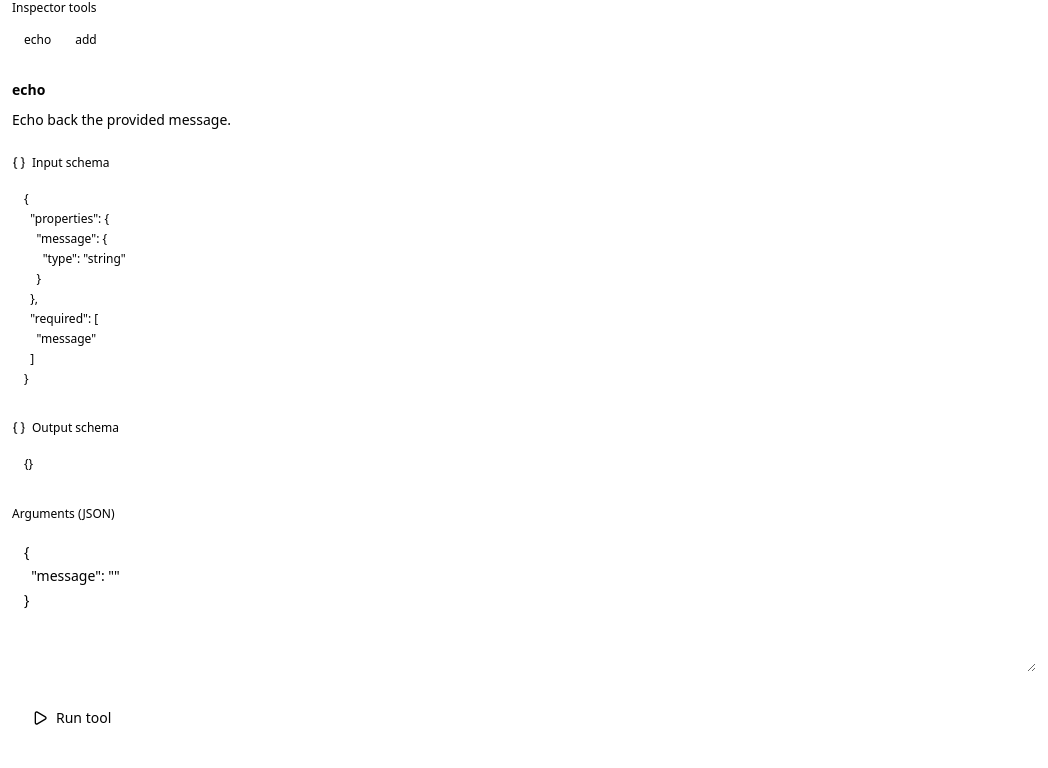
ToolPlayground › shows a clean direct-runtime error for deploymentNotRunning without a sandbox instruction
This screenshot has width=1048, height=768.
Step 1. Click the button "Run tool" → x=72, y=718, box [12,698,131,738]
(page scrolled)
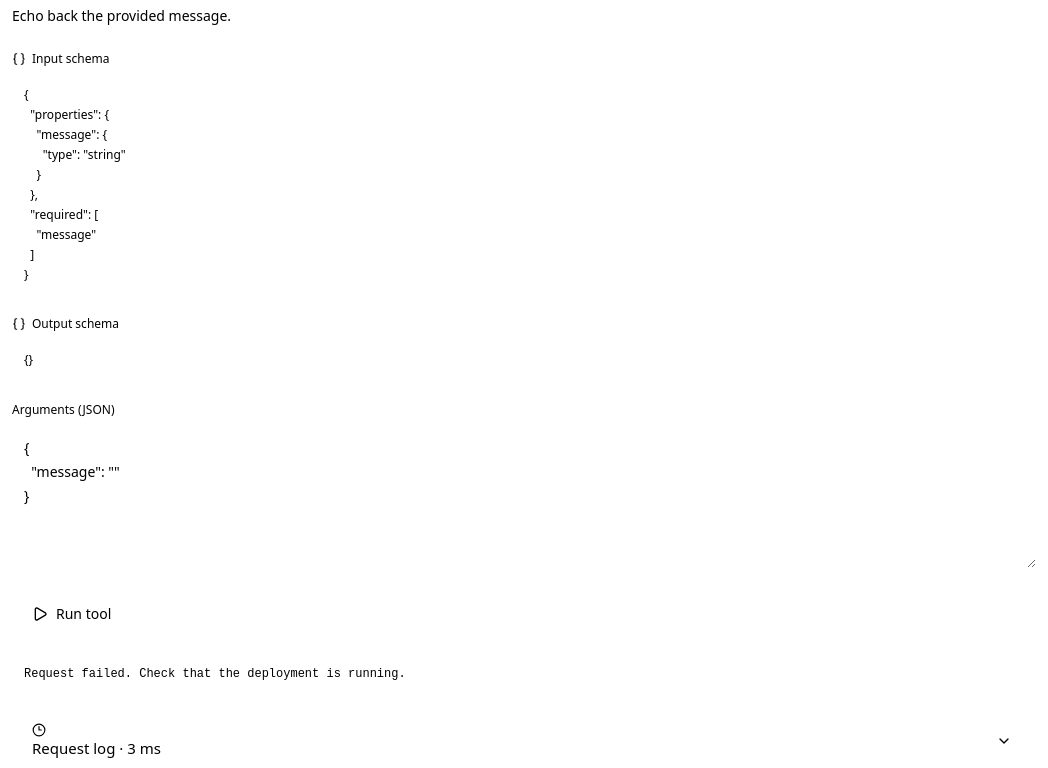
Now the text "Request failed. Check that the deployment is running." is shown, box [24,667,406,681]
